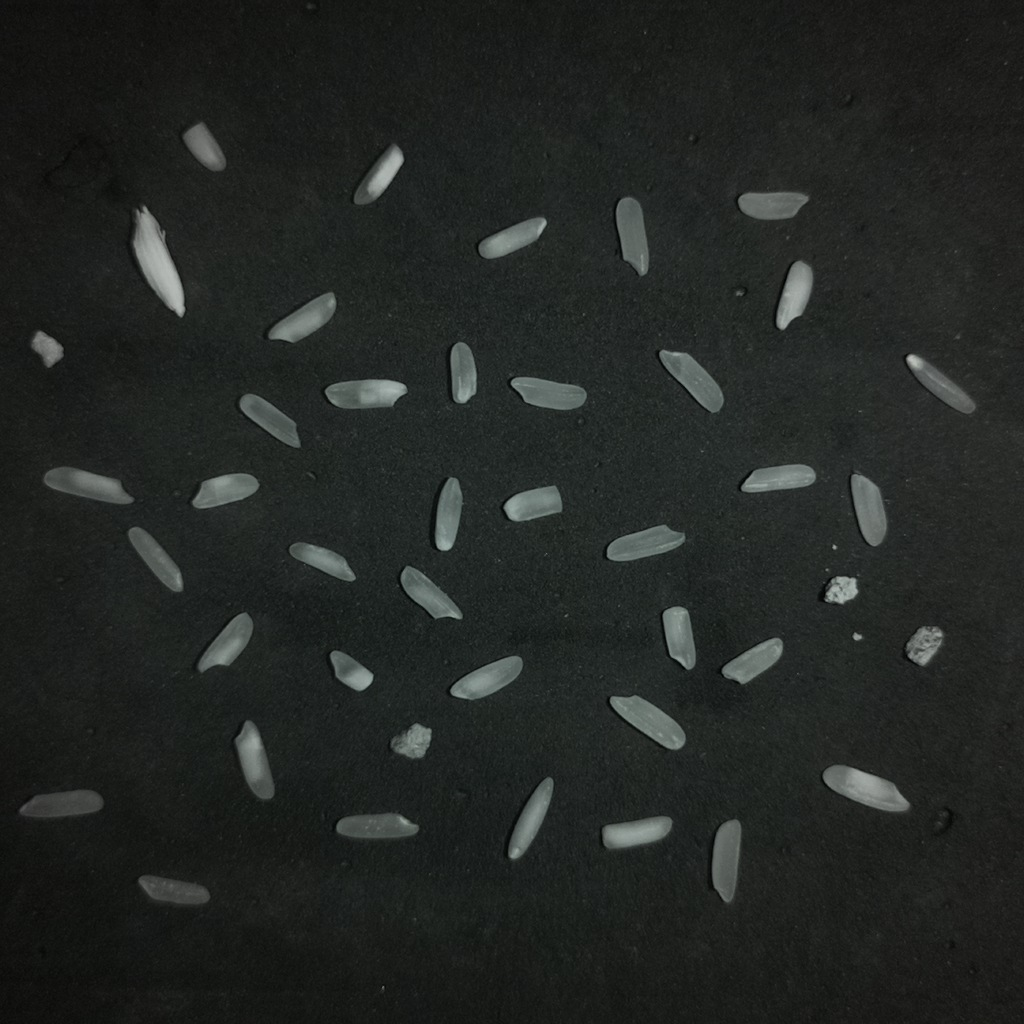broken: (197, 613, 253, 672), (400, 566, 462, 619), (721, 637, 782, 683), (510, 377, 586, 410), (182, 121, 226, 172), (138, 875, 209, 905), (737, 192, 808, 219), (450, 342, 476, 403)
chalky: (822, 764, 909, 811), (508, 777, 553, 859), (267, 292, 336, 342), (234, 720, 274, 799), (449, 656, 522, 699), (353, 144, 403, 204), (477, 217, 546, 259), (776, 261, 812, 329), (325, 379, 407, 408), (191, 473, 258, 508), (601, 816, 672, 848), (503, 485, 562, 521), (740, 464, 815, 492), (662, 606, 695, 669), (435, 477, 462, 550), (329, 650, 373, 691)
foreign: (132, 206, 184, 316), (904, 626, 943, 666), (389, 723, 431, 758), (30, 330, 63, 367), (823, 576, 857, 604)
whole: (610, 695, 685, 750), (906, 354, 975, 413), (659, 350, 723, 412), (127, 527, 182, 591), (43, 467, 133, 504), (239, 393, 300, 447), (606, 524, 684, 560), (615, 197, 648, 276), (850, 473, 886, 545), (289, 542, 355, 581), (712, 819, 741, 903), (19, 789, 103, 817), (335, 814, 418, 839)
